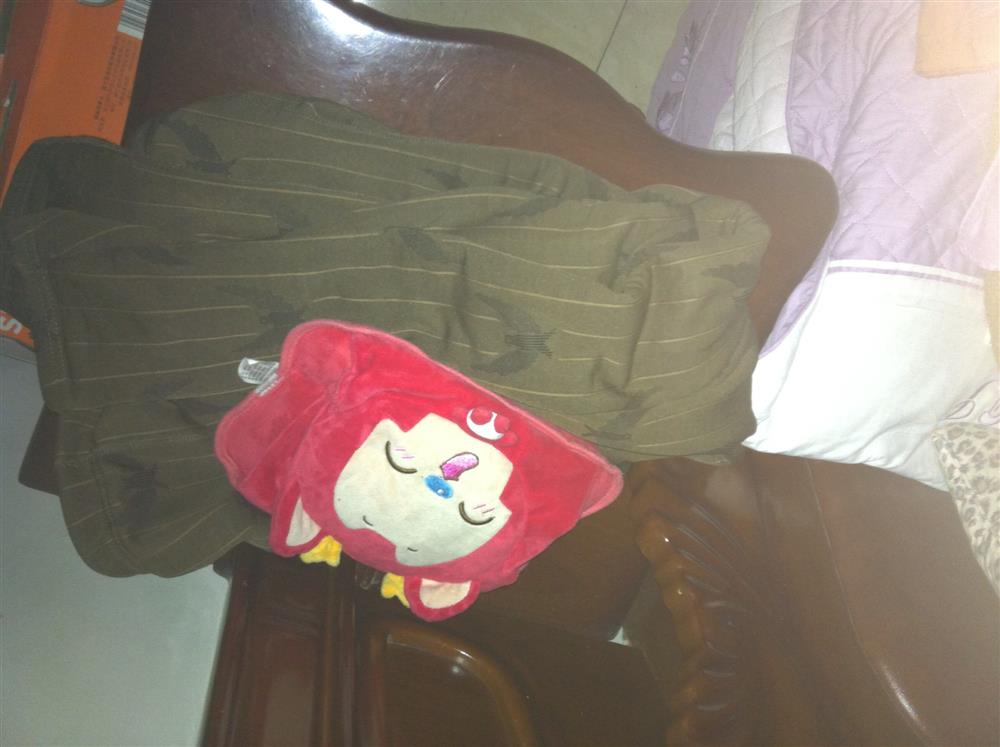Ali: (249, 369, 570, 631)
